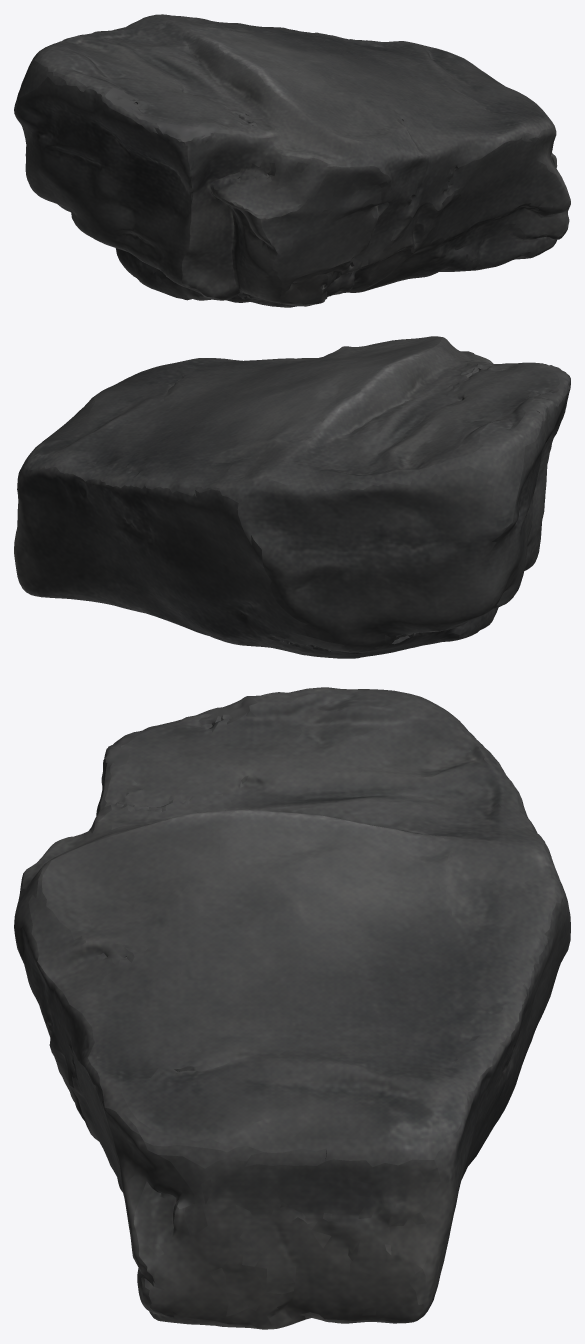
3 views of the same model, one above another, from view 1: azimuth 30°, elevation 25°; view 2: azimuth 150°, elevation 25°; view 3: azimuth 270°, elevation 25° (orthographic). The views are drawn at different scales.
Visible parts, largest first — view 1: world; view 2: world; view 3: world.
Boxes of the visible parts, left/top/right/bottom form: world: left=14, top=14, right=570, bottom=307; world: left=14, top=336, right=570, bottom=658; world: left=14, top=687, right=570, bottom=1329.
Bounding box in the file's own units: 1.2 × 0.6016 × 0.8765.
1 material, 1 textured.
